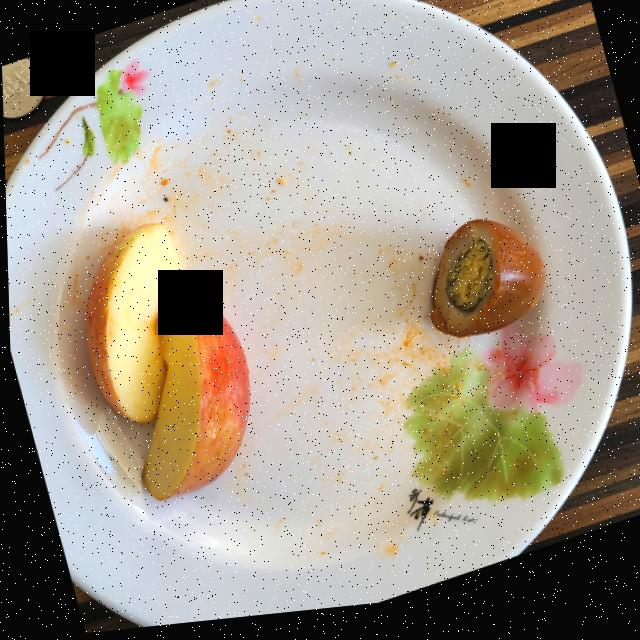apple -sliced-: (83, 226, 246, 503)
coin: (2, 58, 45, 118)
soy egg: (427, 229, 542, 347)
